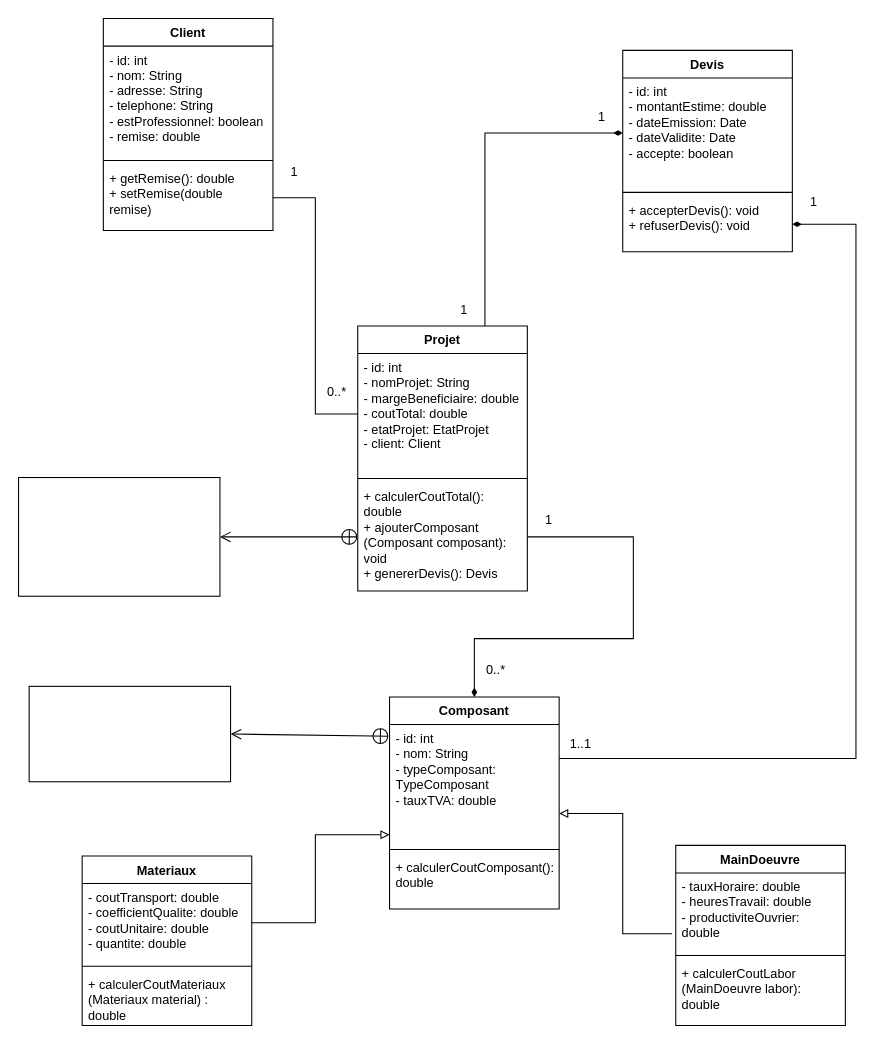
Some shapes in this 883 by 1047 pixel diagram are drawn without their labels. The centre of each missing label's shape, as x and y in pixels:
"<<enum>> EtatProjet En cours Terminé Annulé" goes at pixel 118 536.
"<<enum>> TypeComposant Matériel Main-d’œuvre" goes at pixel 129 733.
